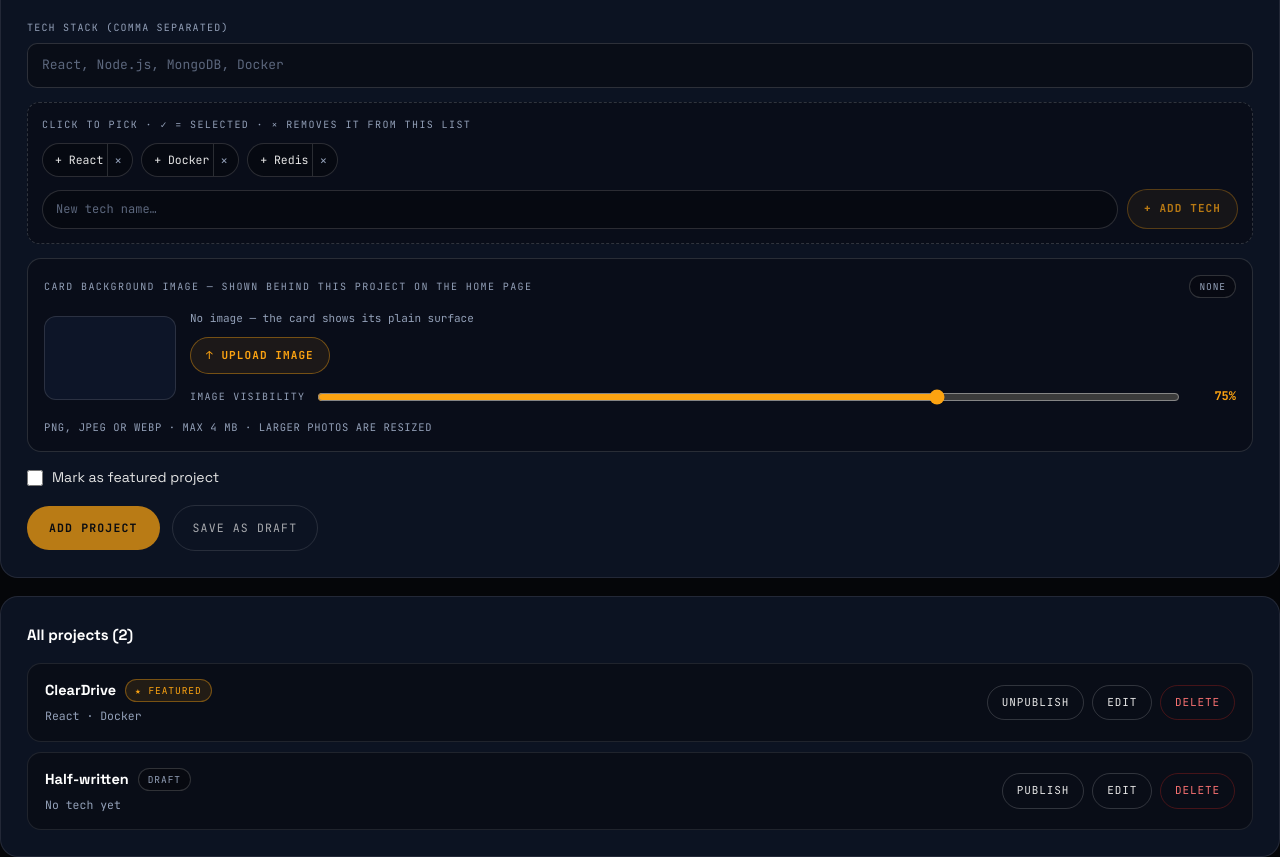
editing, REVERT and CANCEL EDIT › EDIT loads the saved values
(page scrolled)
Click the button "EDIT" in the row of "ClearDrive". click: (1122, 702)
box: 1092,685 -> 1152,720
(page scrolled)
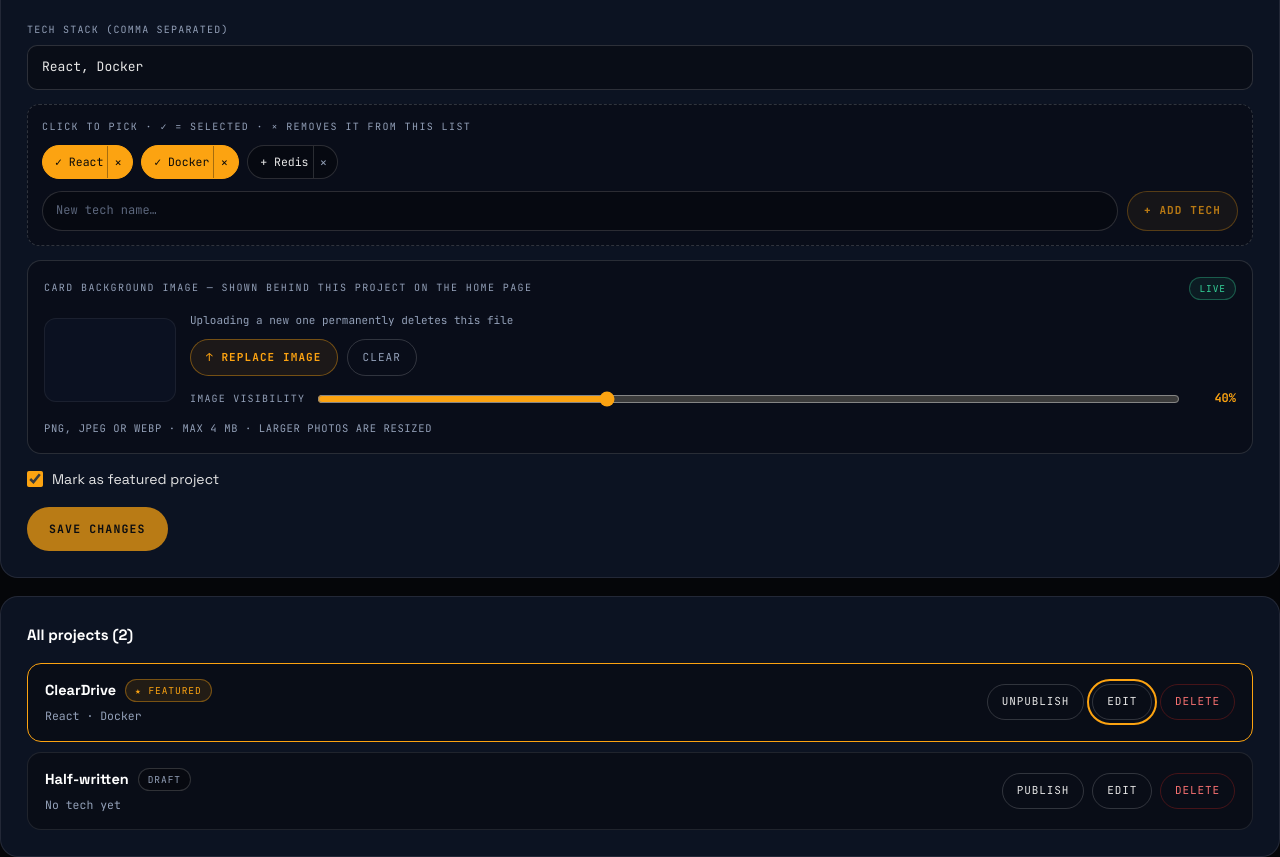
Expected: the field labelled "Tech stack (comma separated)" holds "React, Docker", 27,45 -> 1253,90
Expected: the slider labelled "Image visibility" holds "40", 317,391 -> 1180,407
